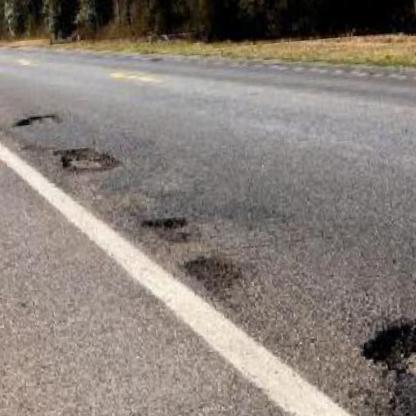pothole: (361, 310, 416, 402), (183, 248, 248, 298), (56, 142, 123, 180), (138, 210, 194, 245), (13, 107, 65, 130)
